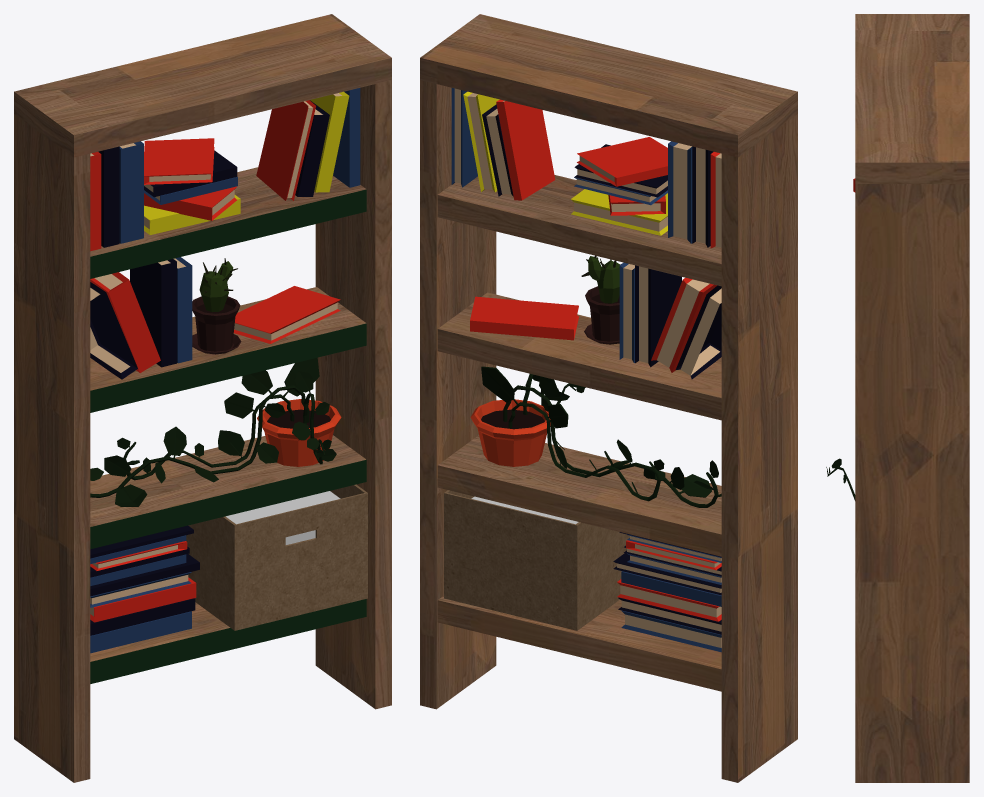
File: bokhyllautan_vaxt.glb
3 views of the same model, side by side, from view 1: azimuth 30°, elevation 25°; view 2: azimuth 150°, elevation 25°; view 3: azimuth 270°, elevation 25° (orthographic). The views are drawn at different scales.
Parts seen in each view (by area): view 1: mesh_id8, mesh_id9, mesh_id15, mesh_id5, mesh_id10, mesh_id11, mesh_id14, mesh_id6, mesh_id7, mesh_id12, mesh_id19, mesh_id16 (+2 smaller); view 2: mesh_id8, mesh_id15, mesh_id6, mesh_id5, mesh_id10, mesh_id11, mesh_id14, mesh_id12, mesh_id7, mesh_id19, mesh_id17, mesh_id13; view 3: mesh_id8.
Boxes of the visible parts, <box> form: mesh_id8: <box>14,14,391,782</box>; mesh_id9: <box>90,189,366,683</box>; mesh_id15: <box>186,484,367,630</box>; mesh_id5: <box>90,100,340,622</box>; mesh_id10: <box>90,100,329,635</box>; mesh_id11: <box>90,88,360,653</box>; mesh_id14: <box>90,357,336,506</box>; mesh_id6: <box>90,93,341,616</box>; mesh_id7: <box>144,91,349,234</box>; mesh_id12: <box>257,399,341,466</box>; mesh_id19: <box>192,296,241,354</box>; mesh_id16: <box>226,491,340,544</box>; mesh_id8: <box>420,14,797,782</box>; mesh_id15: <box>444,490,629,630</box>; mesh_id6: <box>454,88,721,647</box>; mesh_id5: <box>470,99,721,621</box>; mesh_id10: <box>482,104,721,634</box>; mesh_id11: <box>451,88,721,652</box>; mesh_id14: <box>481,366,721,507</box>; mesh_id12: <box>470,399,550,466</box>; mesh_id7: <box>463,91,667,235</box>; mesh_id19: <box>584,286,619,344</box>; mesh_id17: <box>588,256,619,303</box>; mesh_id13: <box>481,294,619,429</box>; mesh_id8: <box>855,14,969,782</box>.
Size of the model in its own units: 0.2631 by 0.512 by 0.1074.
15 materials, 15 textured.
